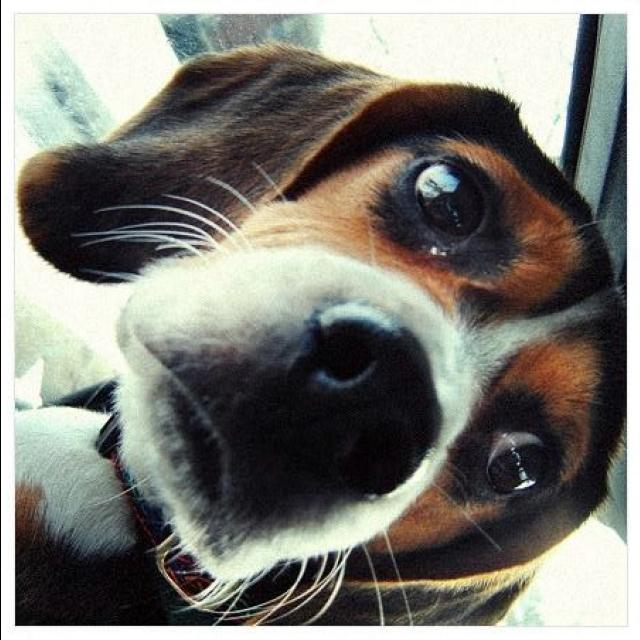beagle: (17, 36, 627, 630)
